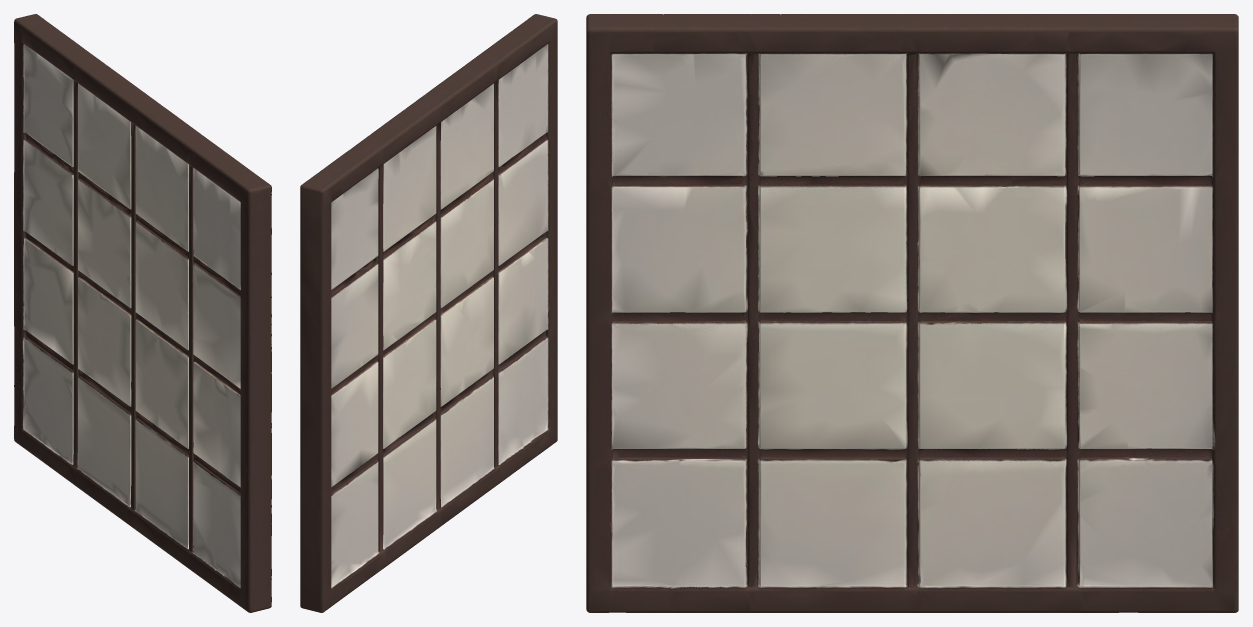
File: JP_사물_s2_wall_shoji_old.glb
3 views of the same model, side by side, from view 1: azimuth 30°, elevation 25°; view 2: azimuth 150°, elevation 25°; view 3: azimuth 270°, elevation 25° (orthographic). The views are drawn at different scales.
Parts seen in each view (by area): view 1: tripo_node_44400c14-1077-4f29-8a21-c2d9c06eb8af; view 2: tripo_node_44400c14-1077-4f29-8a21-c2d9c06eb8af; view 3: tripo_node_44400c14-1077-4f29-8a21-c2d9c06eb8af.
Boxes of the visible parts, x1=… form: tripo_node_44400c14-1077-4f29-8a21-c2d9c06eb8af: x1=14, y1=14, x2=271, y2=612; tripo_node_44400c14-1077-4f29-8a21-c2d9c06eb8af: x1=300, y1=14, x2=557, y2=612; tripo_node_44400c14-1077-4f29-8a21-c2d9c06eb8af: x1=586, y1=14, x2=1238, y2=612.
Size of the model in its own units: 0.0593 by 0.9899 by 0.9999.
1 material, 1 textured.
